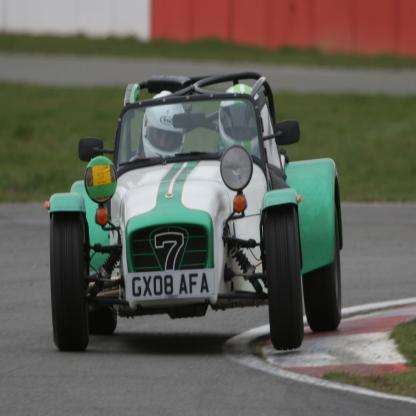Car: (43, 64, 341, 354)
